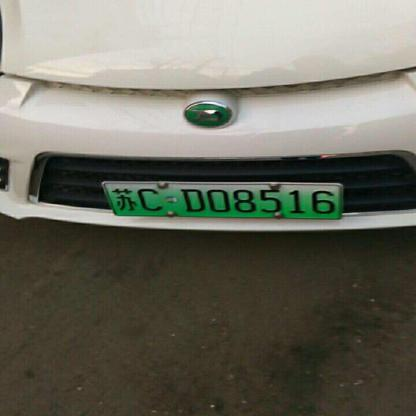lp: (103, 184, 340, 218)
